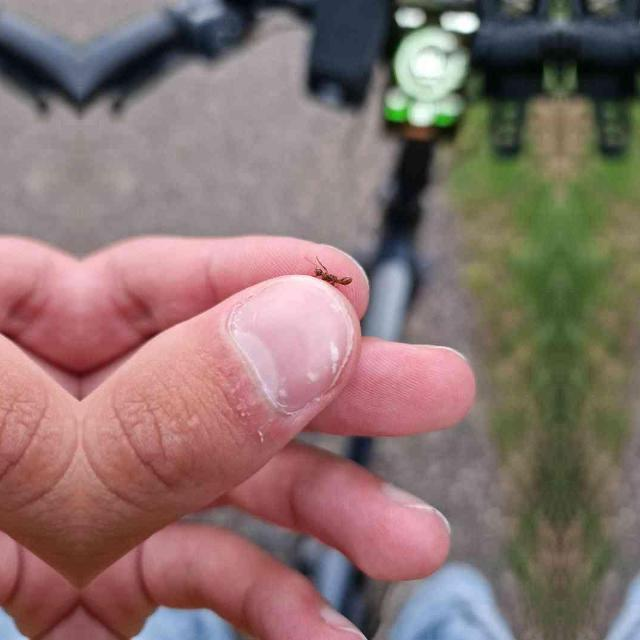Myrmica: (308, 254, 354, 290)
